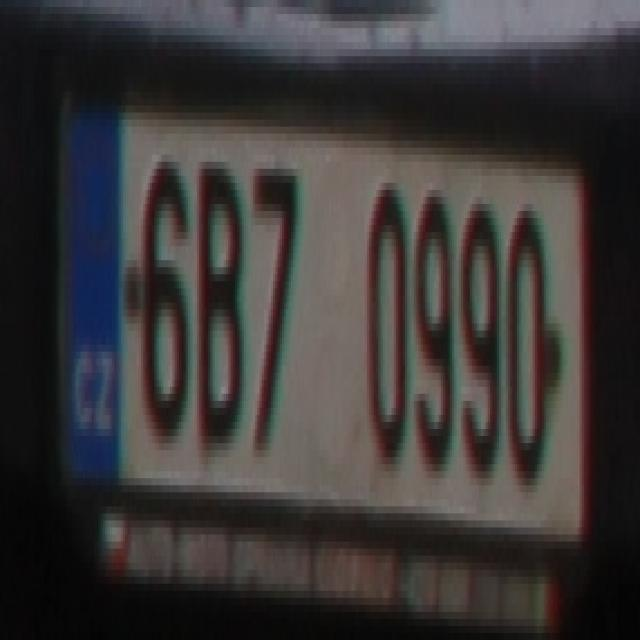0: (360, 168, 410, 478), (503, 204, 544, 486)
6: (141, 148, 186, 430)
7: (250, 148, 300, 458)
9: (456, 190, 502, 486), (412, 190, 456, 458)
B: (190, 148, 244, 444)
